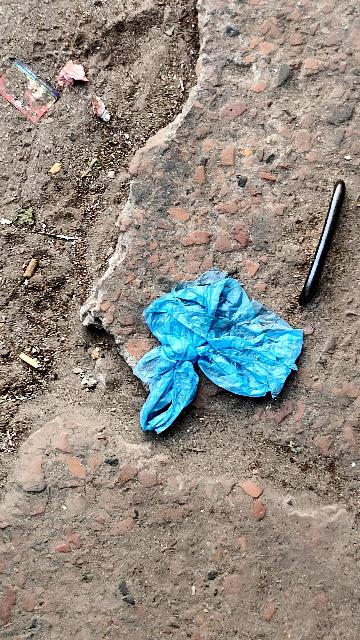polythene: (146, 272, 296, 434)
